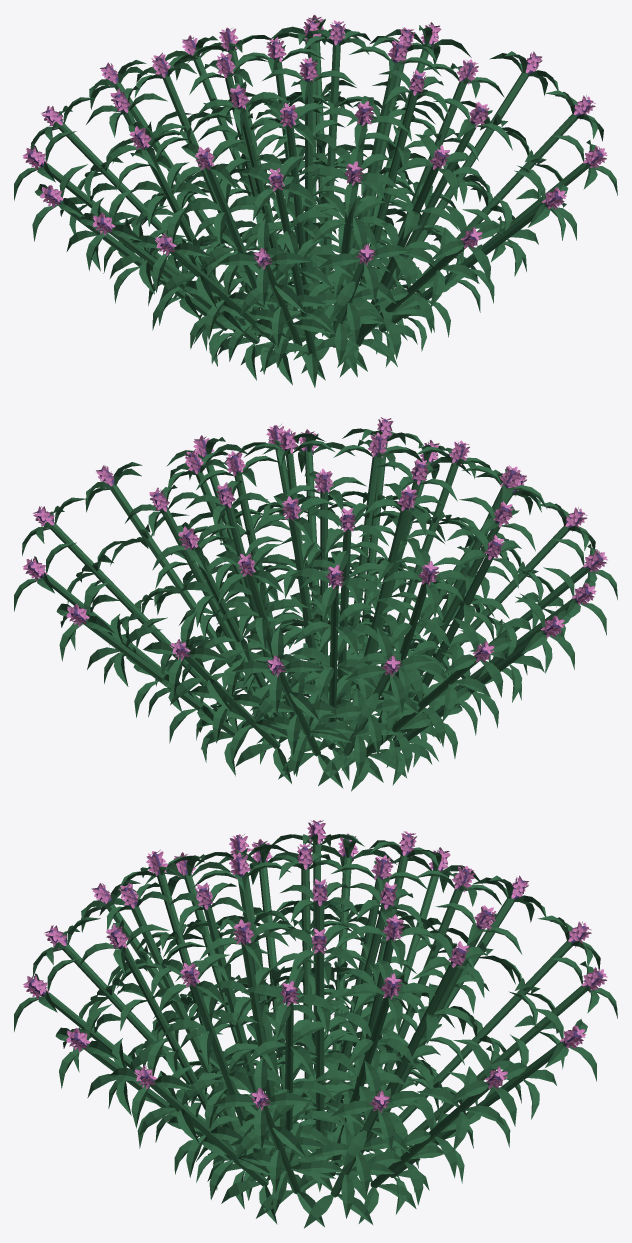
The model's file is mod_vg_thymM.fbx.
The picture shows the model from 3 angles, top to bottom: view 1: azimuth 30°, elevation 25°; view 2: azimuth 150°, elevation 25°; view 3: azimuth 270°, elevation 25°; orthographic projection. The views are drawn at different scales.
Visible parts, largest first — view 1: Thym; view 2: Thym; view 3: Thym.
Part boxes in pixels (x1,y1,x2,y2): Thym: (14,14,617,387); Thym: (14,417,617,791); Thym: (14,820,617,1228).
Bounding box in the file's own units: 192 × 95.1 × 179.
